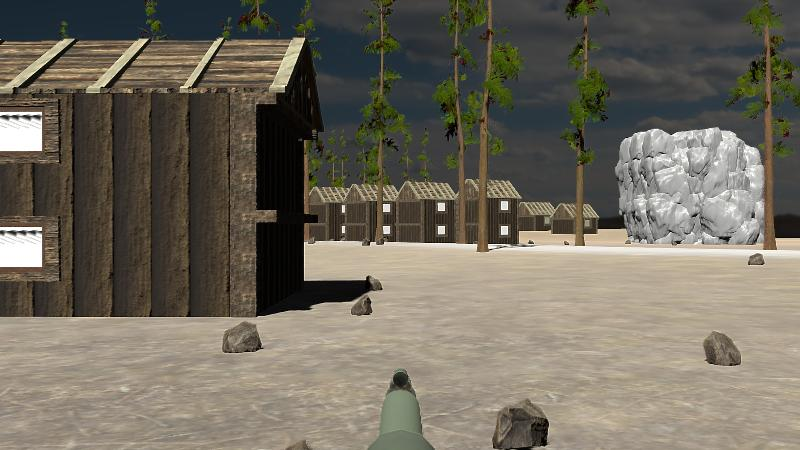House: (0, 38, 323, 317), (458, 178, 521, 244), (395, 181, 455, 242), (343, 183, 398, 240), (307, 186, 346, 240), (551, 202, 599, 234), (518, 201, 555, 231)
